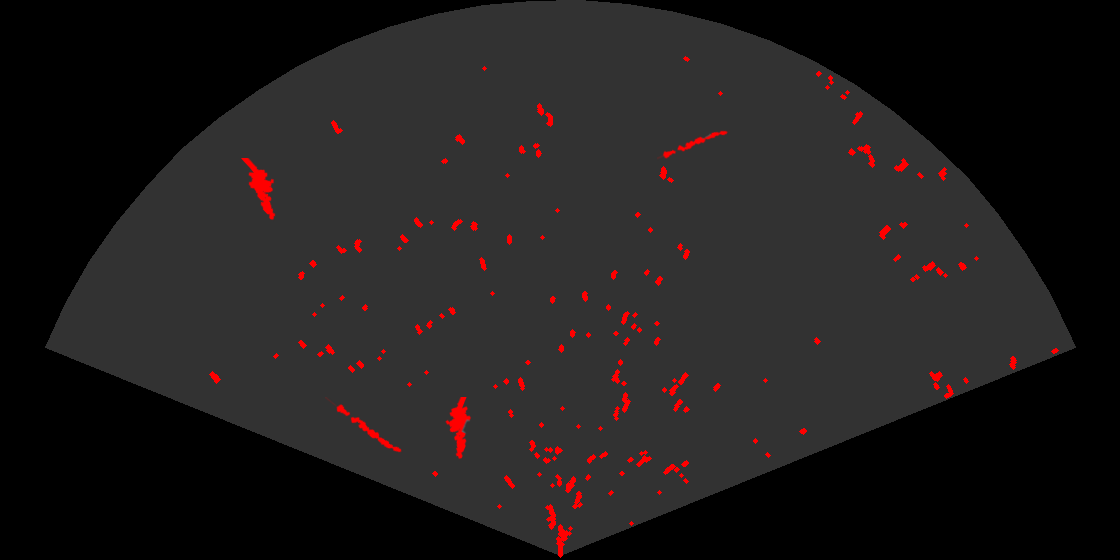chain: (325, 397, 403, 454), (657, 129, 730, 161)
frogman: (240, 158, 277, 222), (444, 397, 473, 461)
